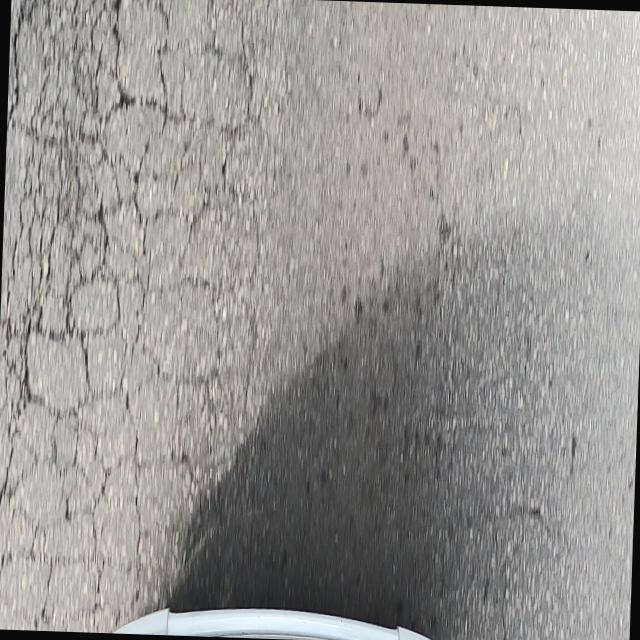Retak-Buaya: (0, 0, 257, 633)
